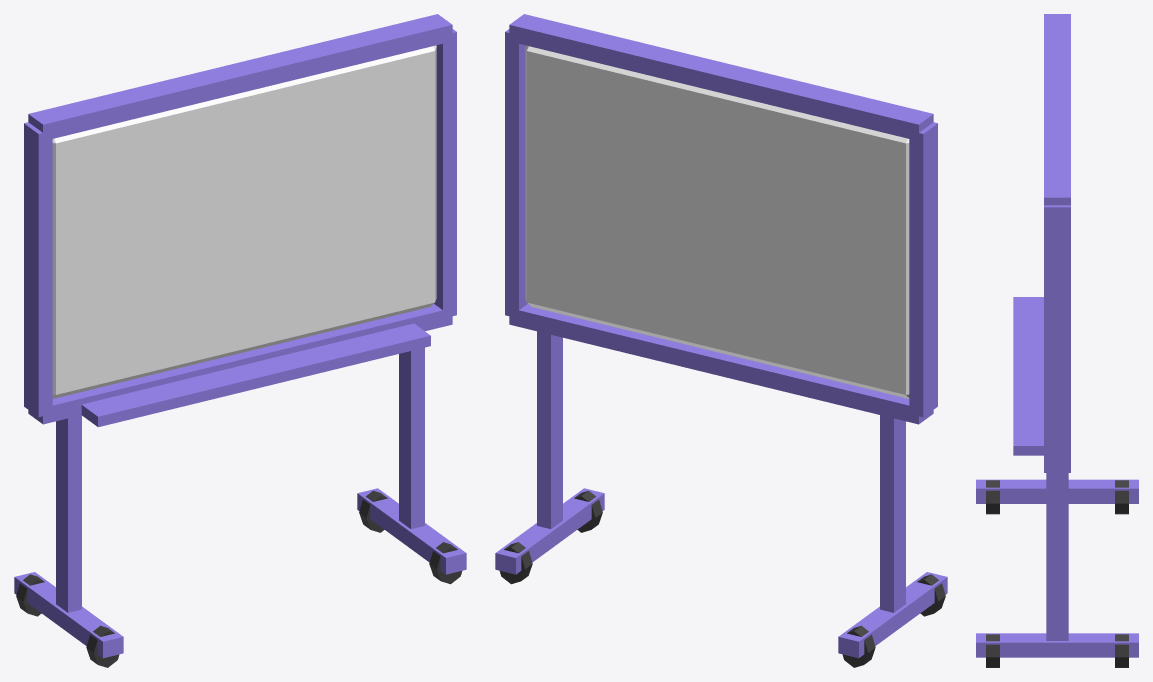
The picture shows the model from 3 angles, left to right: view 1: azimuth 30°, elevation 25°; view 2: azimuth 150°, elevation 25°; view 3: azimuth 270°, elevation 25°; orthographic projection. The views are drawn at different scales.
Visible parts, largest first — view 1: Writing surface, Frame rail.001, Marker ledge, Frame upright, Frame rail, Frame upright.001, Stand, Stand.001, Caster beam, Caster beam.001; view 2: Writing surface, Frame rail.001, Frame rail, Frame upright, Frame upright.001, Stand.001, Stand, Caster beam, Caster beam.001; view 3: Frame upright.001, Frame rail.001, Marker ledge, Stand.001, Caster beam.001, Caster beam, Wheel, Wheel.001, Wheel.002, Wheel.003.
Boxes of the visible parts, x1,y1,x2,y2 form: Writing surface: [52, 45, 436, 398]; Frame rail.001: [28, 14, 452, 141]; Marker ledge: [81, 323, 430, 427]; Frame upright: [24, 122, 52, 417]; Frame rail: [28, 304, 452, 424]; Frame upright.001: [434, 29, 456, 318]; Stand: [56, 415, 81, 612]; Stand.001: [399, 347, 424, 528]; Caster beam: [14, 572, 123, 658]; Caster beam.001: [357, 488, 466, 574]; Writing surface: [525, 45, 909, 398]; Frame rail.001: [509, 14, 933, 139]; Frame rail: [509, 304, 933, 424]; Frame upright: [909, 122, 937, 417]; Frame upright.001: [505, 29, 527, 315]; Stand.001: [537, 331, 562, 528]; Stand: [880, 415, 905, 612]; Caster beam: [838, 572, 947, 658]; Caster beam.001: [495, 488, 604, 574]; Frame upright.001: [1044, 205, 1070, 467]; Frame rail.001: [1044, 14, 1070, 205]; Marker ledge: [1013, 297, 1043, 455]; Stand.001: [1046, 473, 1068, 640]; Caster beam.001: [976, 633, 1138, 657]; Caster beam: [976, 479, 1138, 503]; Wheel: [986, 480, 999, 514]; Wheel.001: [1115, 480, 1128, 514]; Wheel.002: [986, 634, 999, 667]; Wheel.003: [1115, 634, 1128, 667].
Bounding box in the file's own units: 131 × 158 × 48.
